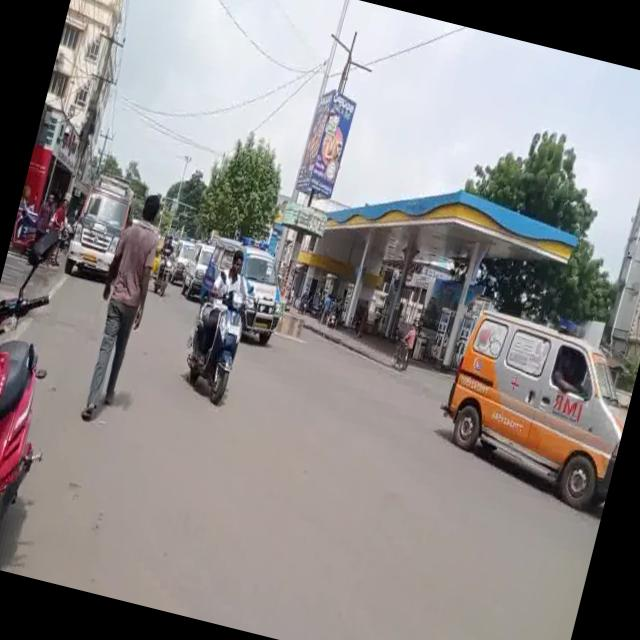ambulance: (421, 296, 640, 493), (56, 164, 139, 286)
